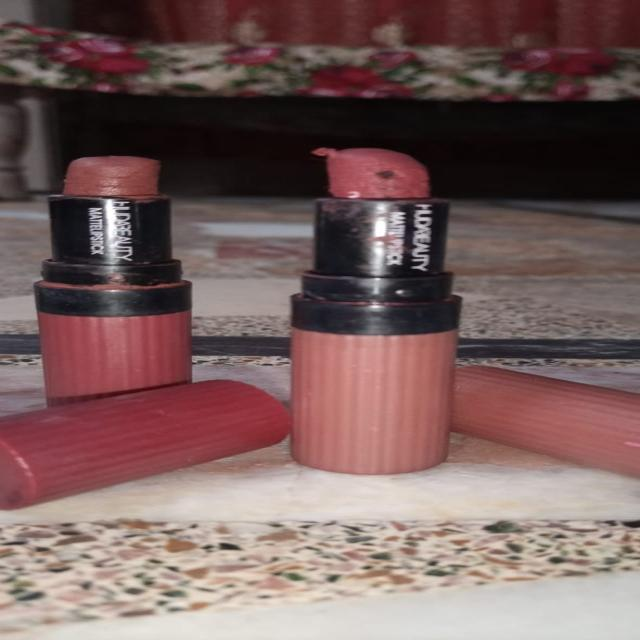lip stick: (279, 126, 482, 487), (0, 142, 207, 392)
